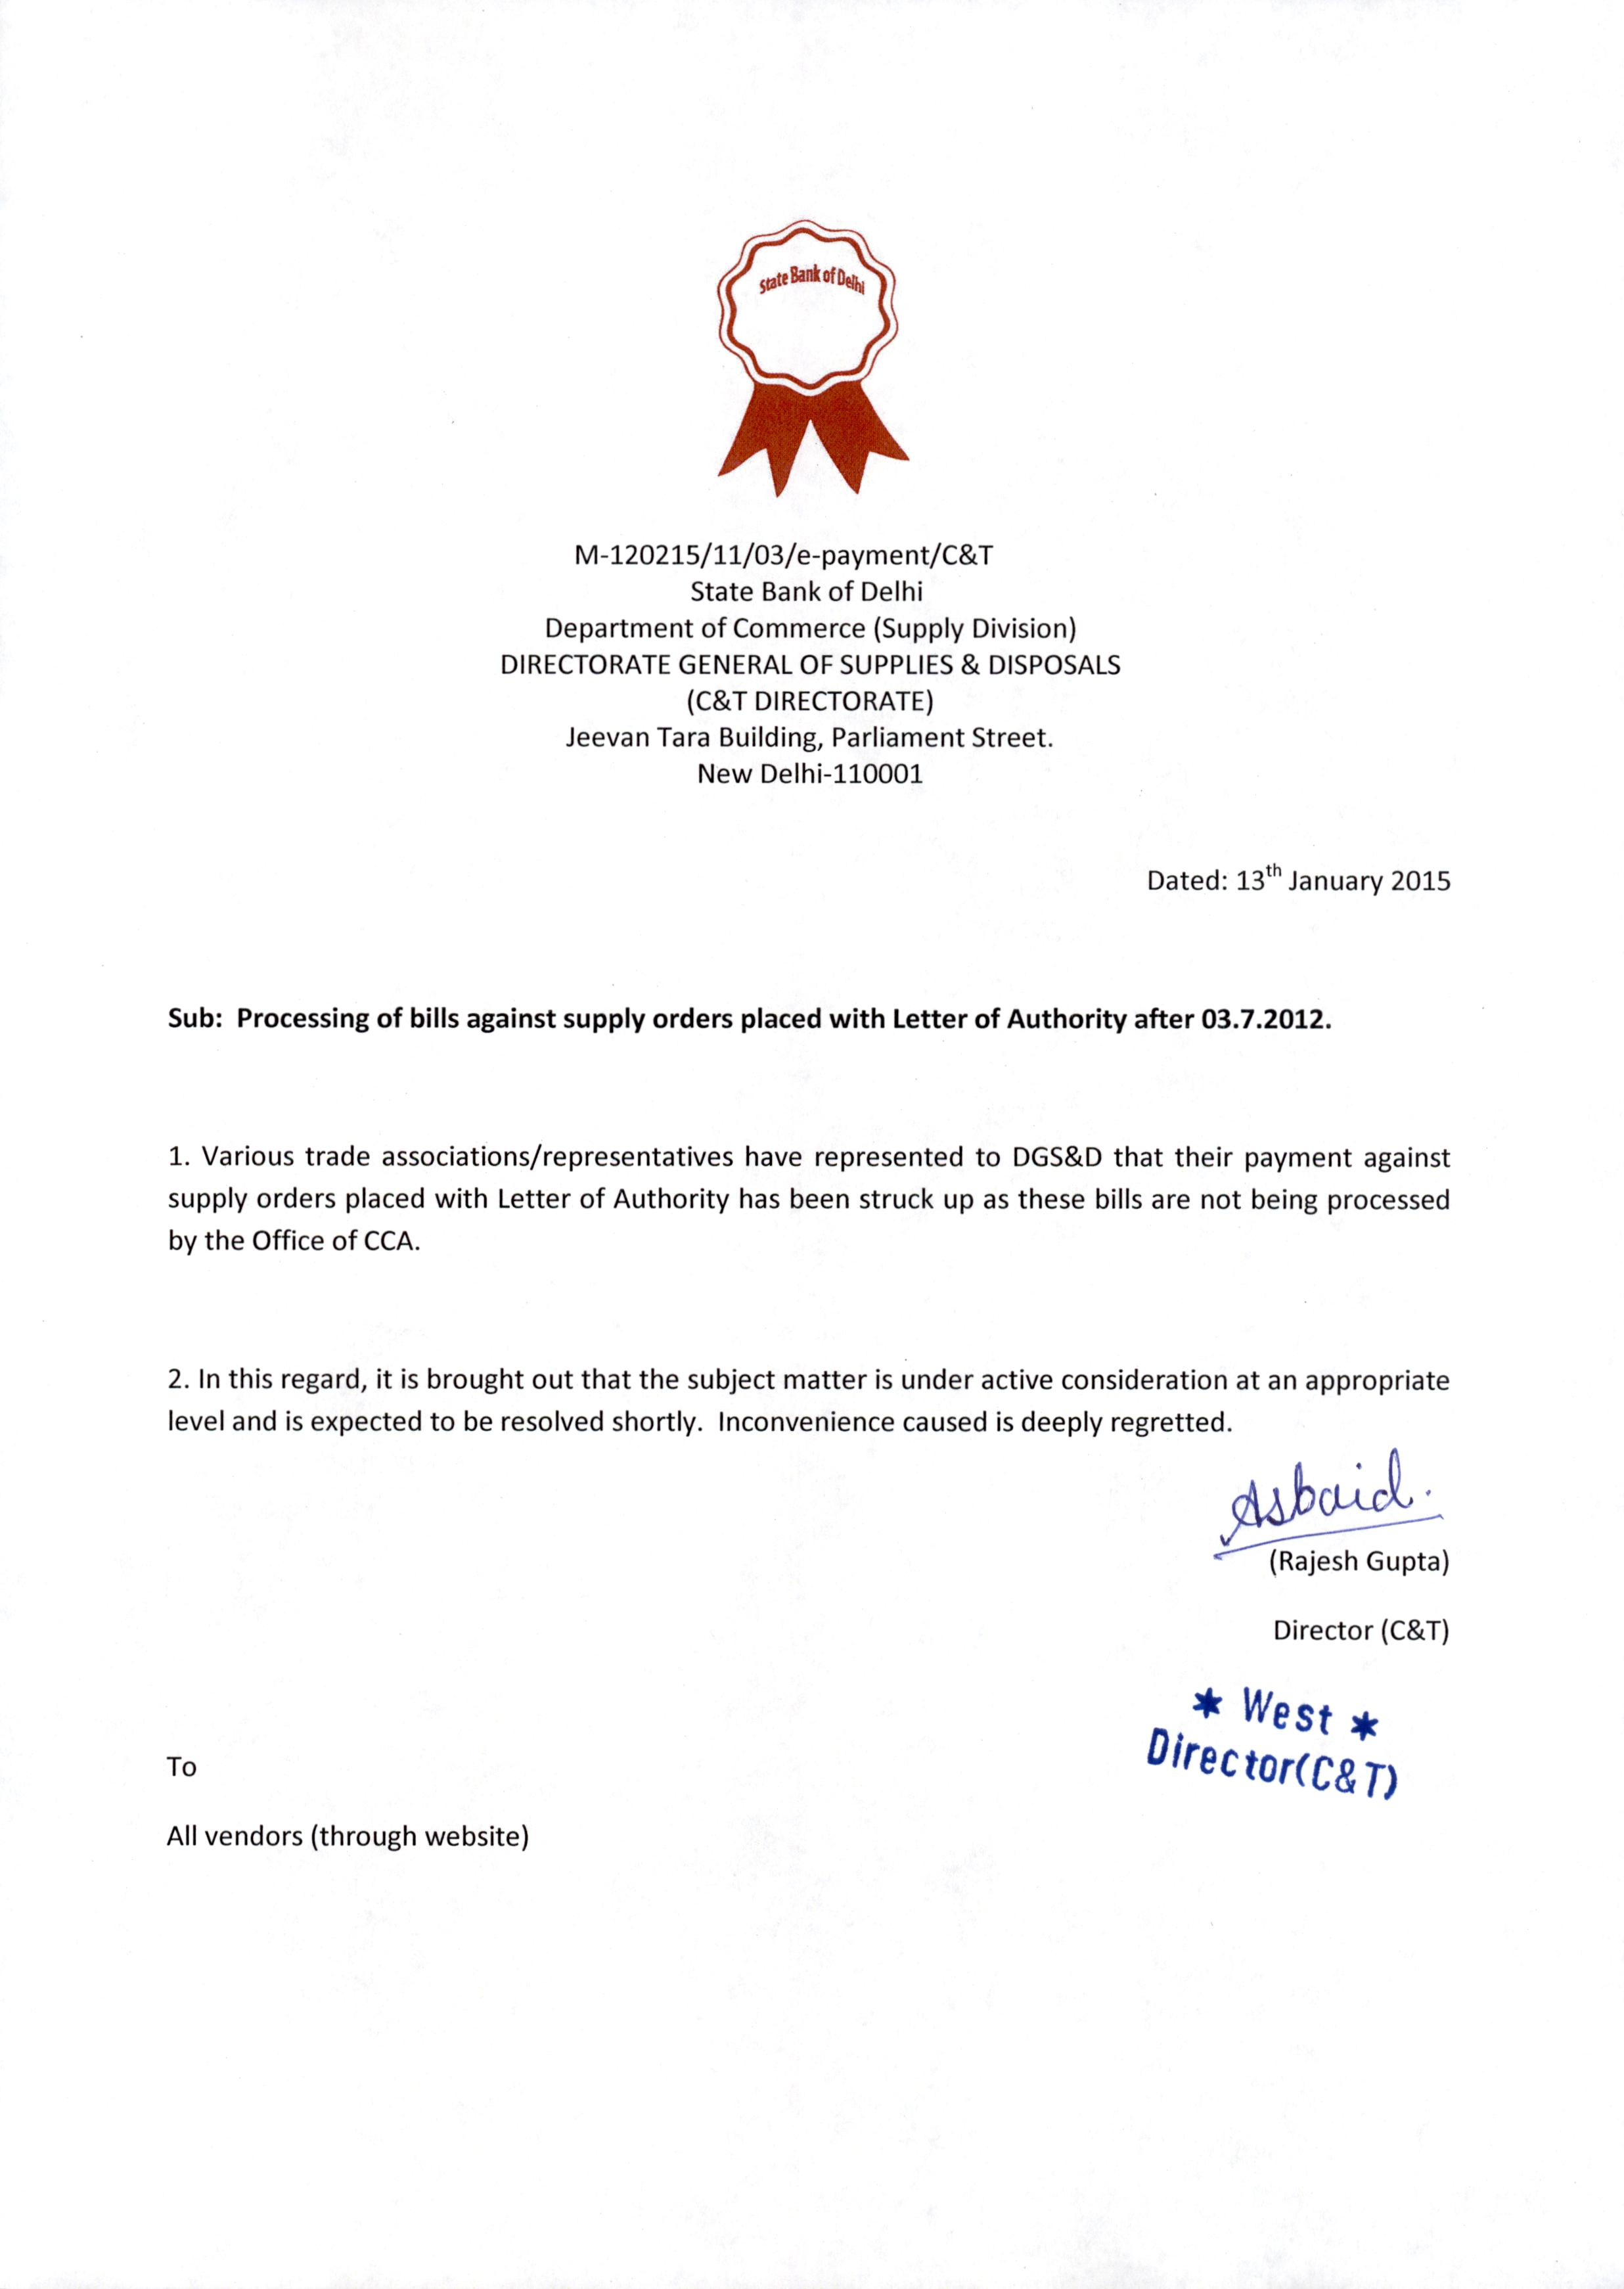Signature: (1207, 1442, 1446, 1556)
